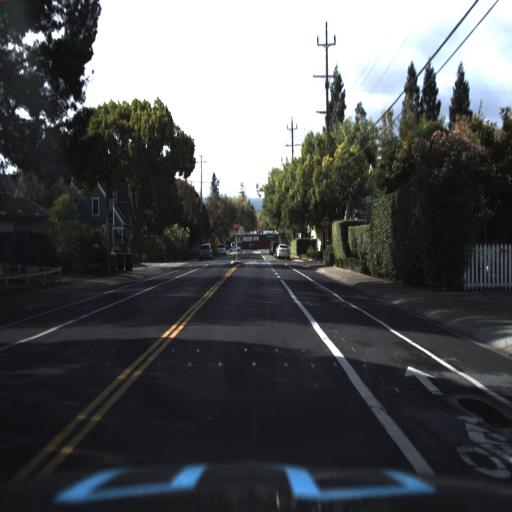car: (198, 239, 214, 263), (275, 242, 291, 260)
